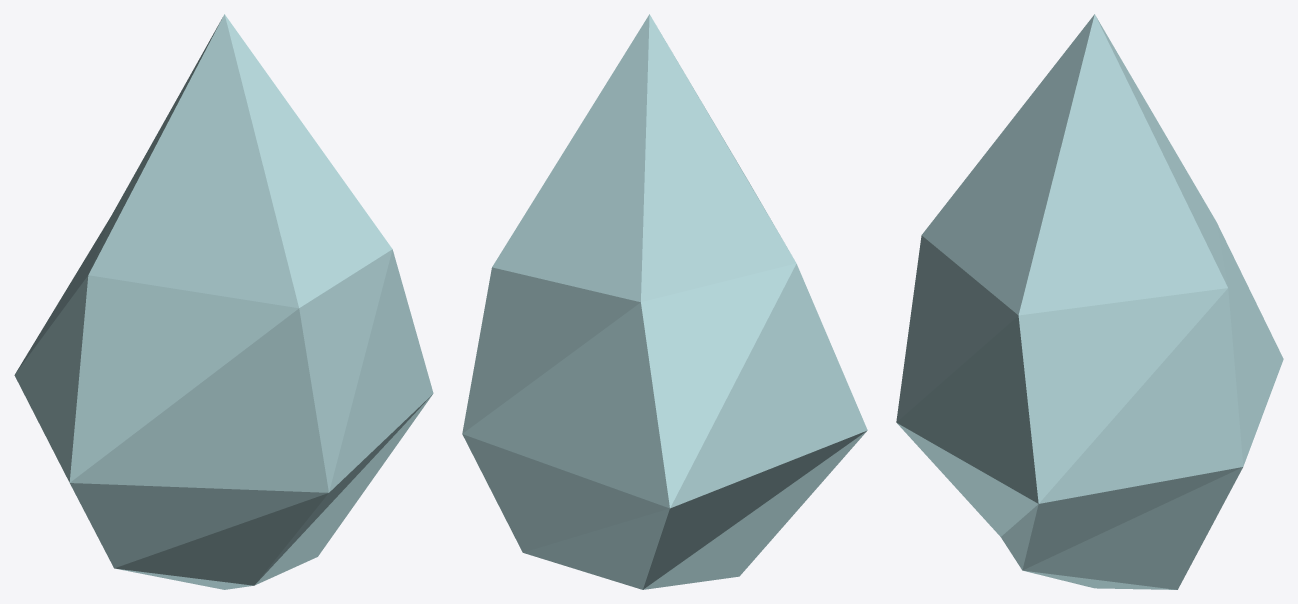
File: lab_rift_fragment_b.glb
3 views of the same model, side by side, from view 1: azimuth 30°, elevation 25°; view 2: azimuth 150°, elevation 25°; view 3: azimuth 270°, elevation 25° (orthographic).
Parts seen in each view (by area): view 1: lab_rift_fragment_b; view 2: lab_rift_fragment_b; view 3: lab_rift_fragment_b.
Part boxes in pixels (left/top/right/bottom): lab_rift_fragment_b: left=14, top=14, right=433, bottom=589; lab_rift_fragment_b: left=462, top=14, right=867, bottom=589; lab_rift_fragment_b: left=896, top=14, right=1283, bottom=589.
Size of the model in its own units: 0.2009 by 0.3 by 0.1834.
